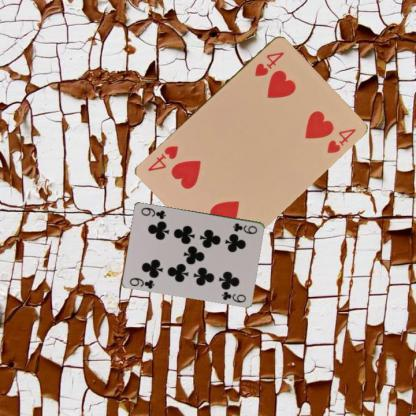4h: (252, 48, 285, 78)
9c: (230, 220, 259, 235), (127, 275, 156, 289)
